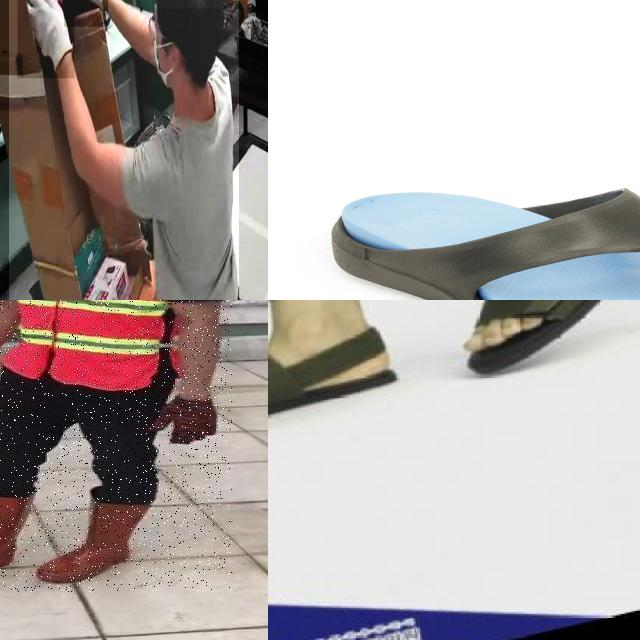Sandals: (327, 183, 640, 300), (268, 320, 401, 459), (461, 300, 640, 384)
boots: (40, 493, 142, 582), (0, 492, 32, 582)
hand_glove: (17, 0, 74, 78), (64, 0, 108, 26)
person: (8, 0, 239, 300), (0, 300, 232, 592)
vest: (0, 300, 185, 391)
